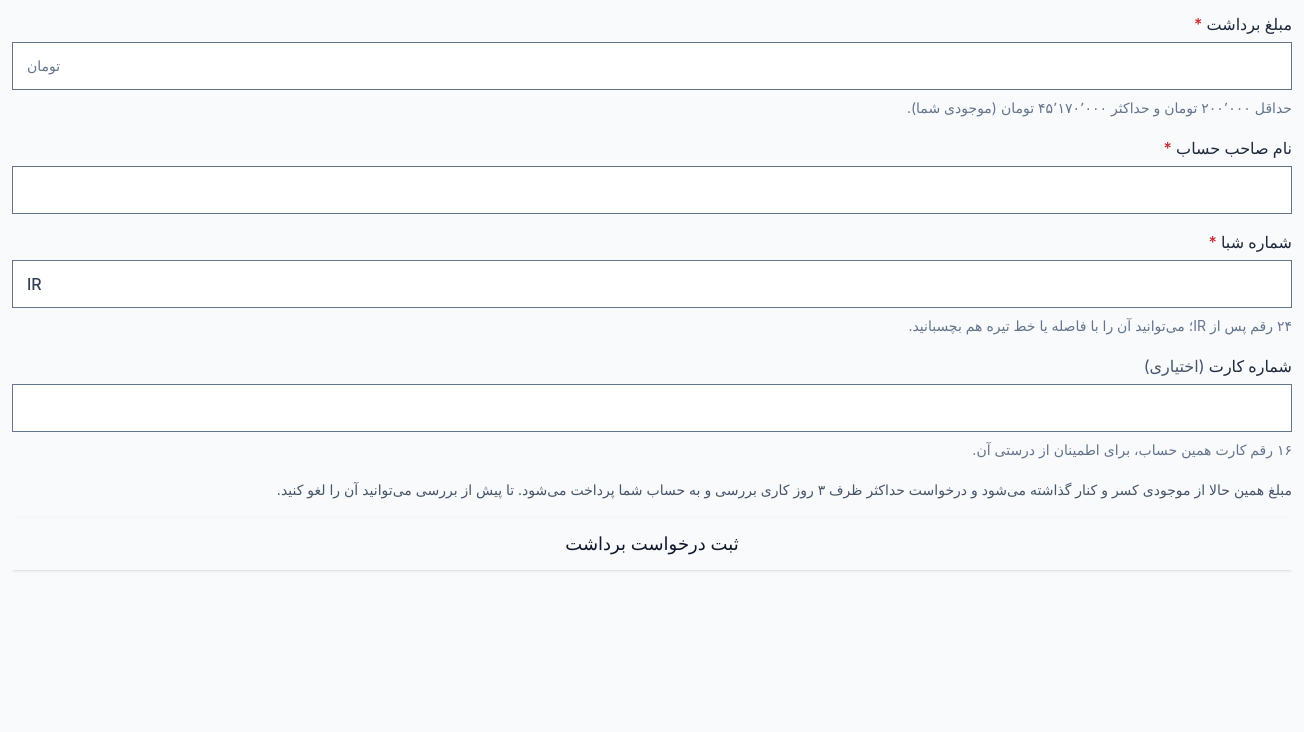
Scenario: the sheba › normalises Persian digits (and «IR», spaces, dashes) before it is sent
This screenshot has width=1304, height=732.
Later steps or results of the test are not shown.
In the field labelled "مبلغ برداشت *": (676, 66) [60, 43, 1291, 89], type "300000"
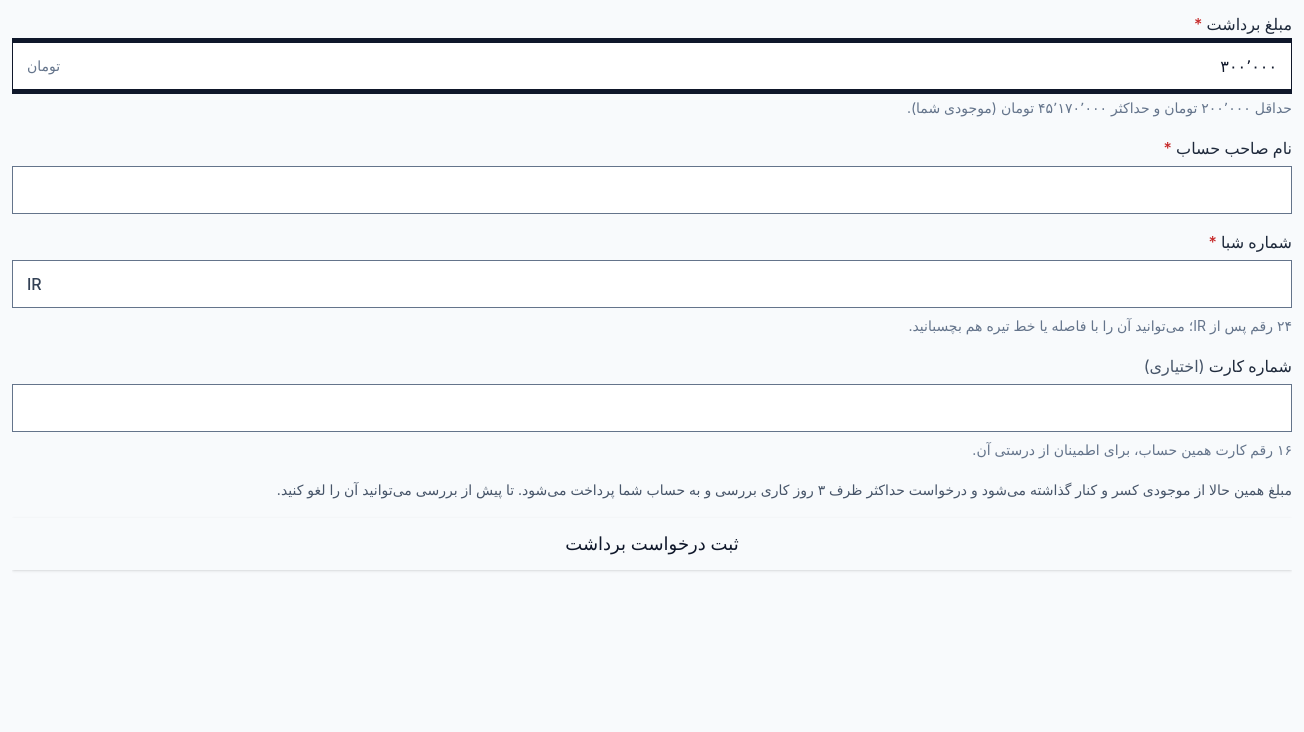
In the field labelled "نام صاحب حساب *": (652, 190) [13, 167, 1291, 213], type "شیرین تهرانی"
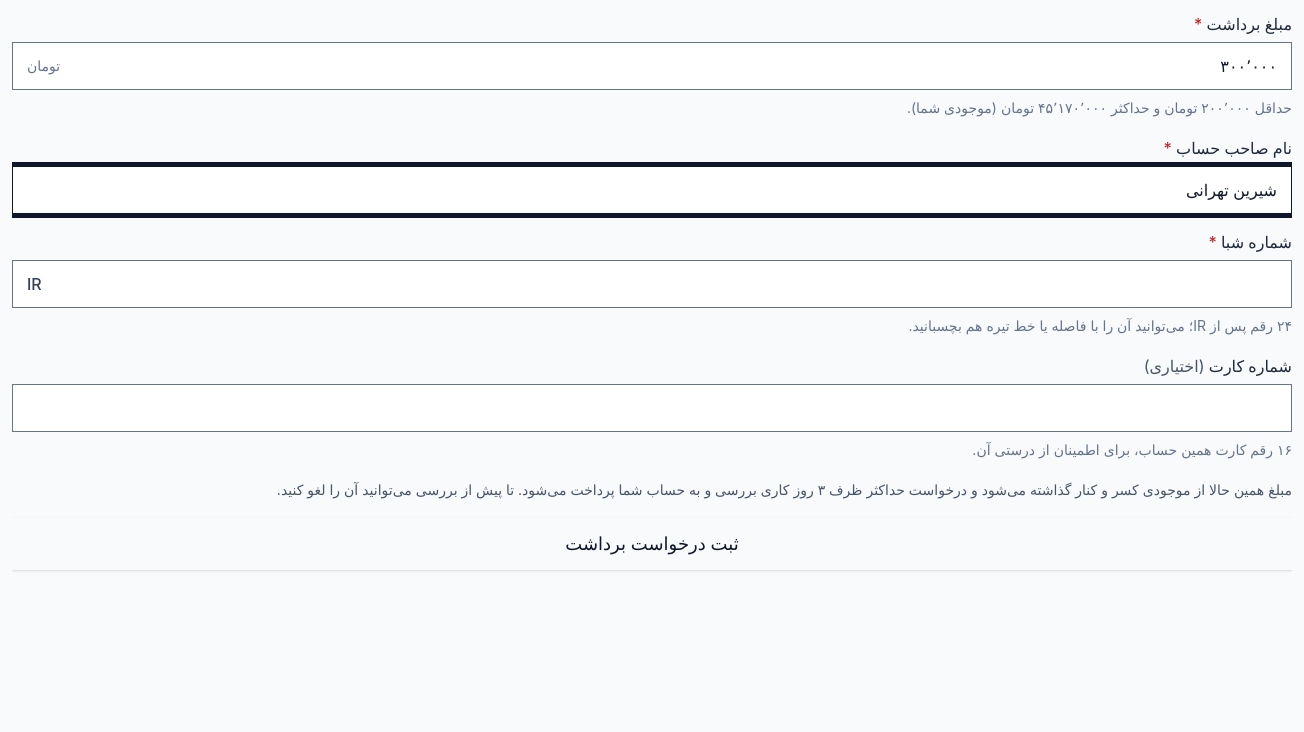
Click the field labelled "شماره شبا *": (666, 284) [42, 261, 1291, 307]
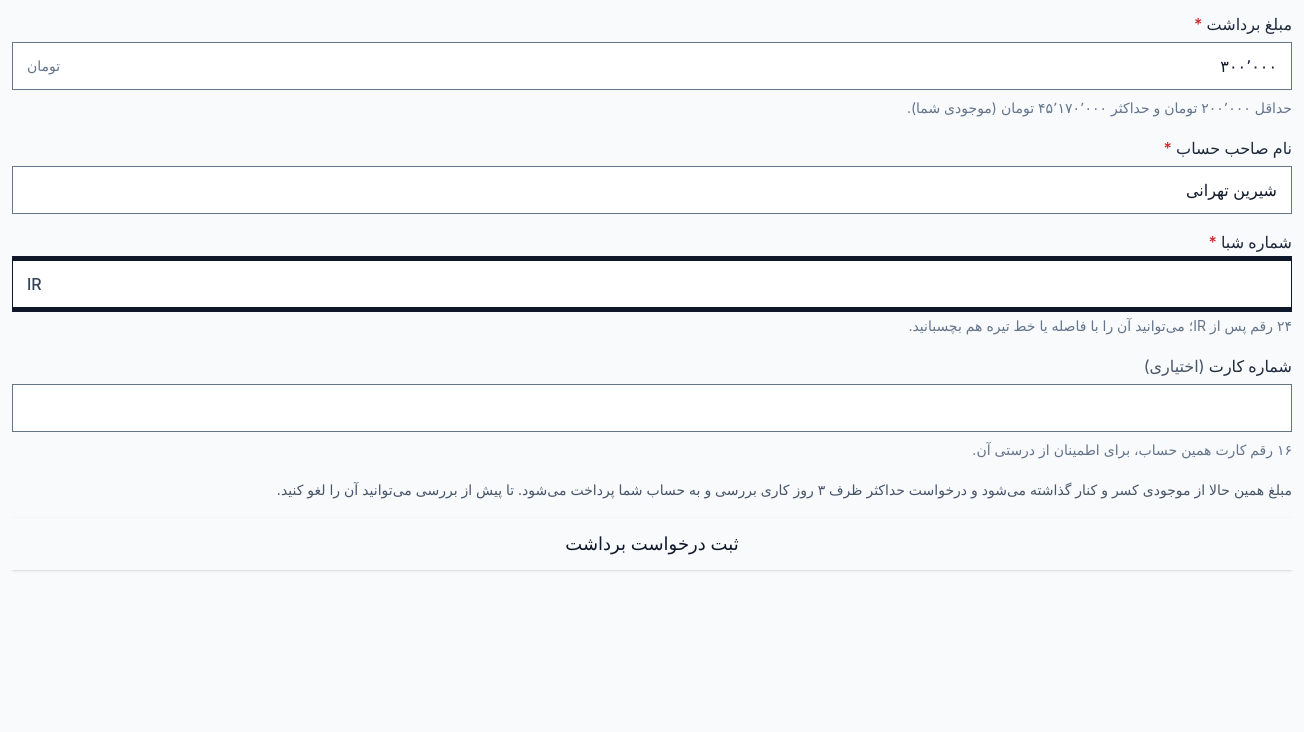
Type keys "IR ۰۶۲۹-۶۰۰۰-۰۰۰۰-۱۰۰۳-۲۴۲۰-۰۰۰۱"
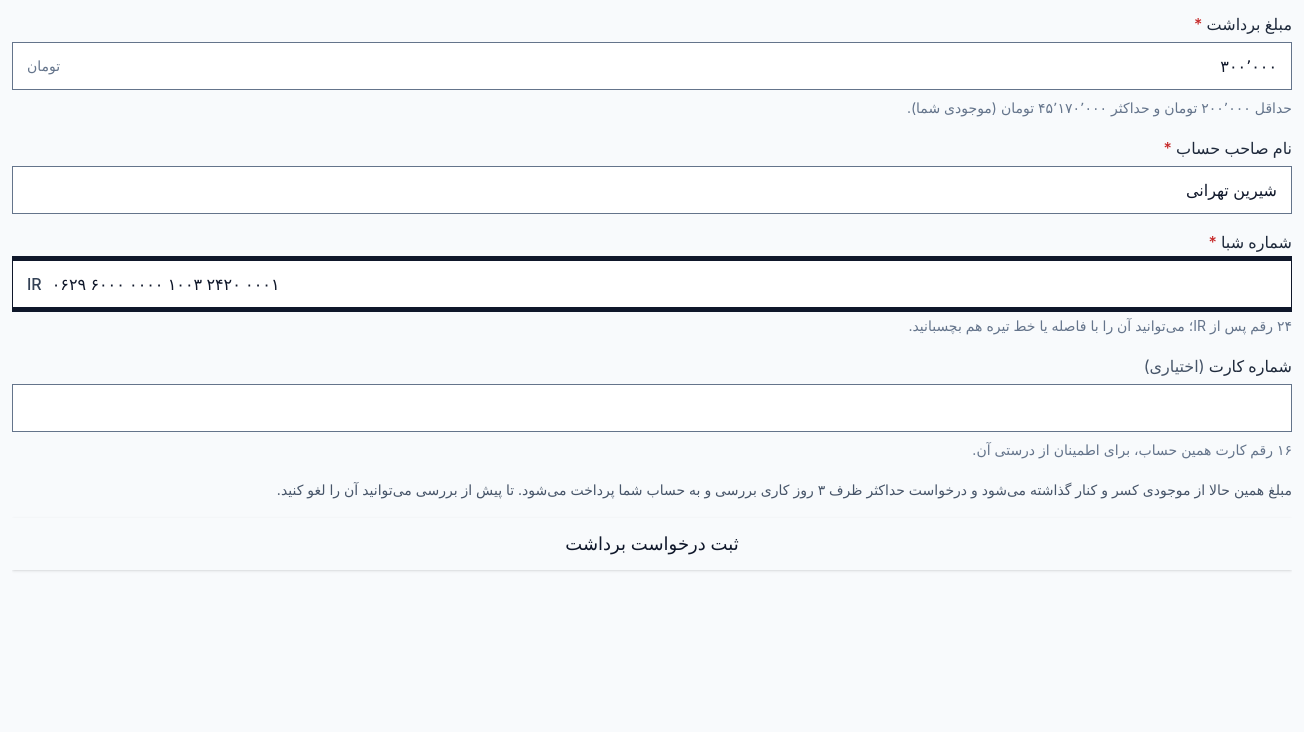
Check: the field labelled "شماره شبا *" holds "۰۶۲۹ ۶۰۰۰ ۰۰۰۰ ۱۰۰۳ ۲۴۲۰ ۰۰۰۱", box [42, 261, 1291, 307]
